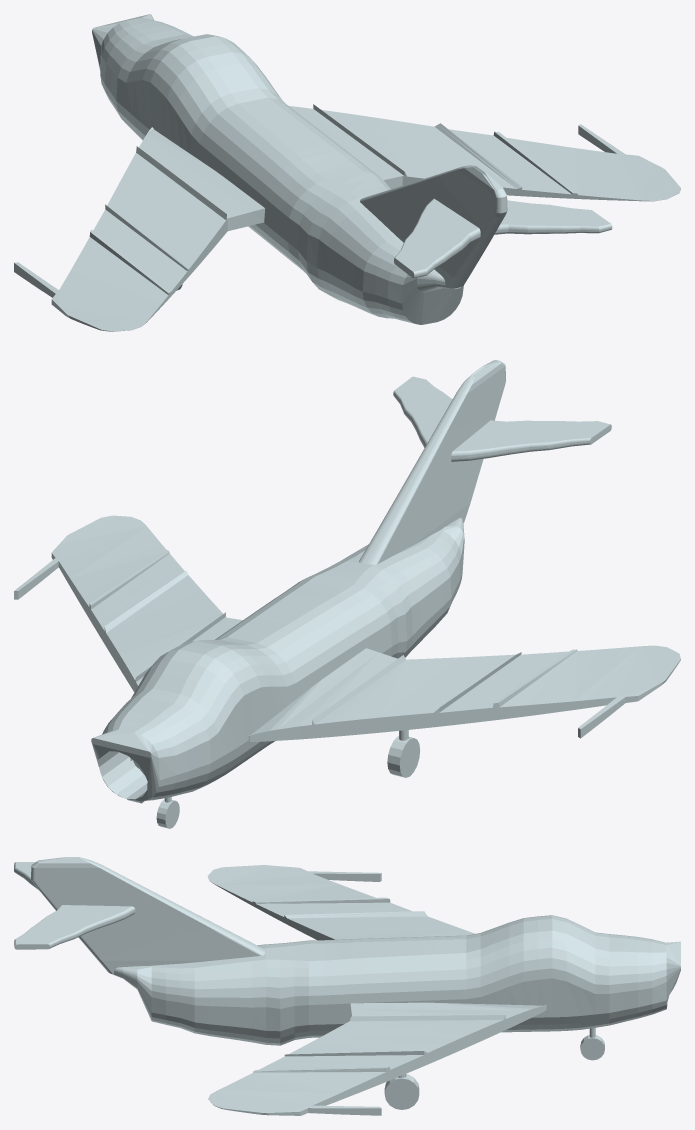
3 views of the same model, one above another, from view 1: azimuth 30°, elevation 25°; view 2: azimuth 150°, elevation 25°; view 3: azimuth 270°, elevation 25° (orthographic). The views are drawn at different scales.
Parts seen in each view (by area): view 1: Aircraft visual hull; view 2: Aircraft visual hull, Landing gear; view 3: Aircraft visual hull, Landing gear.
Part boxes in pixels (box(x1,y1,x2,y2)): Aircraft visual hull: box(14, 14, 680, 331); Aircraft visual hull: box(14, 360, 680, 803); Landing gear: box(156, 730, 420, 828); Aircraft visual hull: box(14, 857, 680, 1115); Landing gear: box(384, 1028, 604, 1109).
Bounding box in the file's own units: 9.76 × 3.66 × 11.09.
